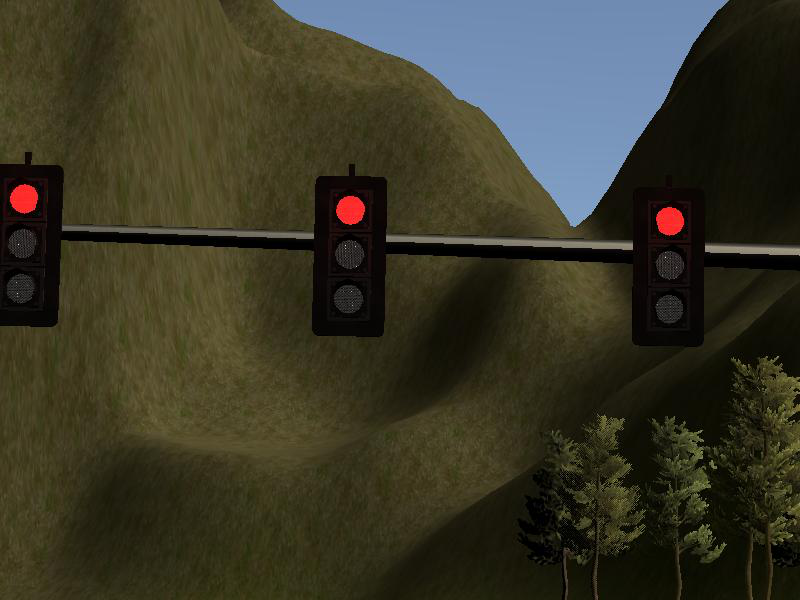red: (313, 176, 388, 339), (634, 188, 701, 346), (1, 166, 65, 326)
